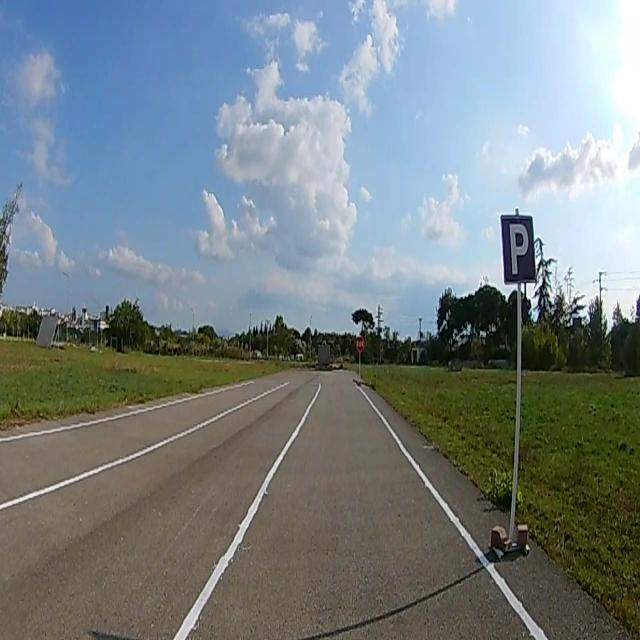park: (501, 214, 536, 283)
